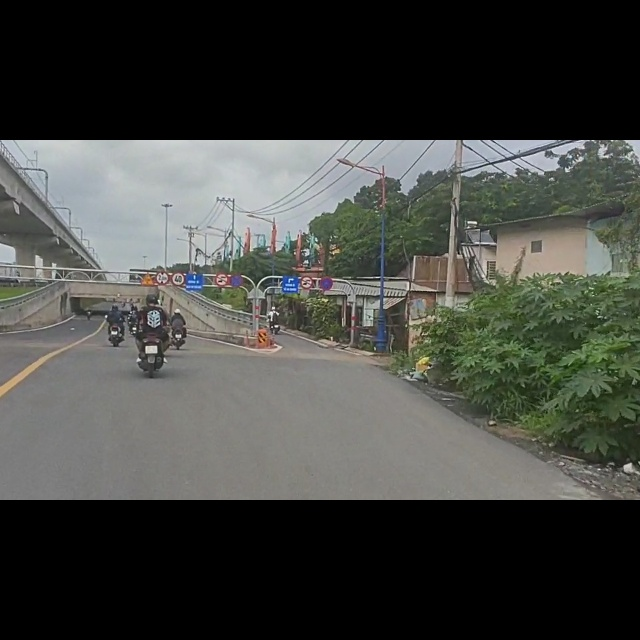bien_chi_dan: (155, 232, 170, 257), (139, 235, 155, 258), (171, 232, 185, 258), (320, 242, 333, 268), (230, 238, 243, 263), (300, 241, 313, 265), (215, 236, 229, 258)
